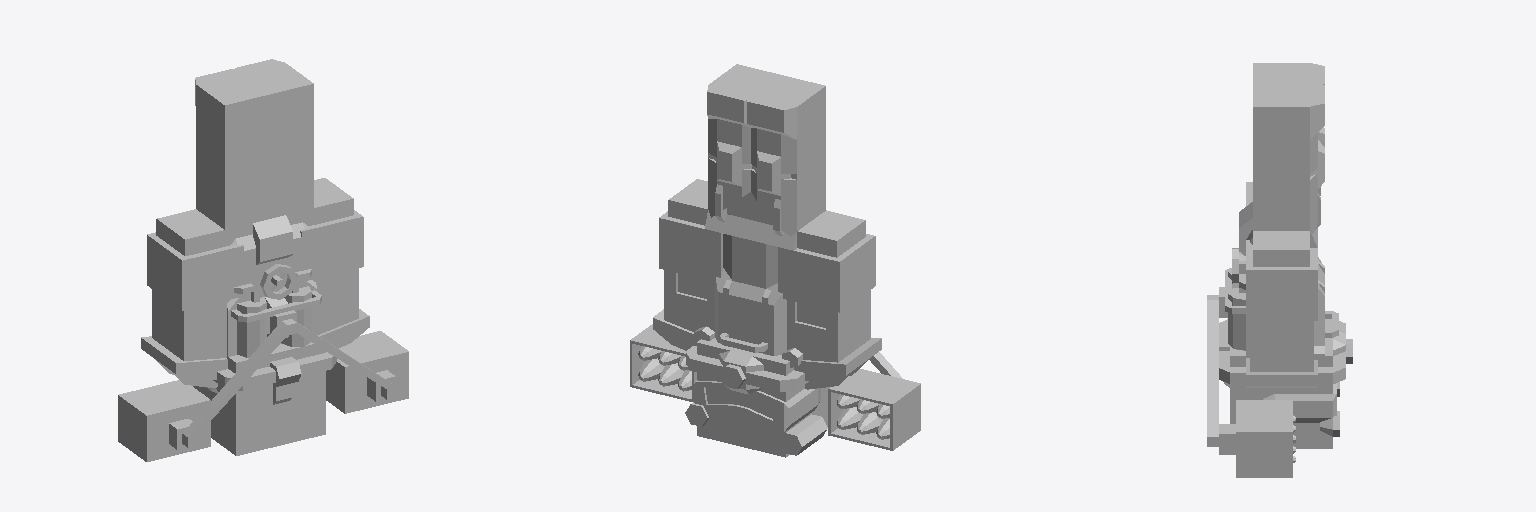
The model's file is AJR.obj.
The picture shows the model from 3 angles: view 1: azimuth 30°, elevation 25°; view 2: azimuth 150°, elevation 25°; view 3: azimuth 270°, elevation 25°; orthographic projection.
Visible parts, largest first — view 1: RocketBox, RightArm, Helmet, Chest, LeftArm, RightLeg, RightBoot, LeftLeg, LeftBoot; view 2: RightArm, Helmet, RocketBox, Chest, LeftArm, RightLeg, LeftLeg, RightBoot, LeftBoot; view 3: LeftArm, RocketBox, Helmet, LeftLeg, LeftBoot, Chest, RightBoot.
Part boxes in pixels (bbox=[...]): RocketBox: bbox=[118, 310, 408, 461]; RightArm: bbox=[141, 209, 243, 387]; Helmet: bbox=[193, 342, 336, 455]; Chest: bbox=[225, 208, 321, 357]; LeftArm: bbox=[300, 178, 369, 348]; RightLeg: bbox=[196, 118, 273, 237]; RightBoot: bbox=[195, 69, 273, 138]; LeftLeg: bbox=[264, 118, 313, 223]; LeftBoot: bbox=[235, 59, 313, 126]; RightArm: bbox=[778, 210, 881, 389]; Helmet: bbox=[685, 338, 829, 457]; RocketBox: bbox=[630, 324, 920, 450]; Chest: bbox=[705, 210, 796, 355]; LeftArm: bbox=[653, 179, 722, 350]; RightLeg: bbox=[748, 120, 825, 236]; LeftLeg: bbox=[708, 119, 757, 221]; RightBoot: bbox=[747, 76, 825, 139]; LeftBoot: bbox=[707, 64, 785, 130]; LeftArm: bbox=[1246, 231, 1324, 387]; RocketBox: bbox=[1207, 287, 1295, 477]; Helmet: bbox=[1219, 319, 1352, 448]; LeftLeg: bbox=[1253, 134, 1324, 233]; LeftBoot: bbox=[1253, 85, 1324, 139]; Chest: bbox=[1225, 202, 1338, 357]; RightBoot: bbox=[1253, 63, 1324, 86].
Size of the model in its own units: 26.5 by 33 by 12.69.